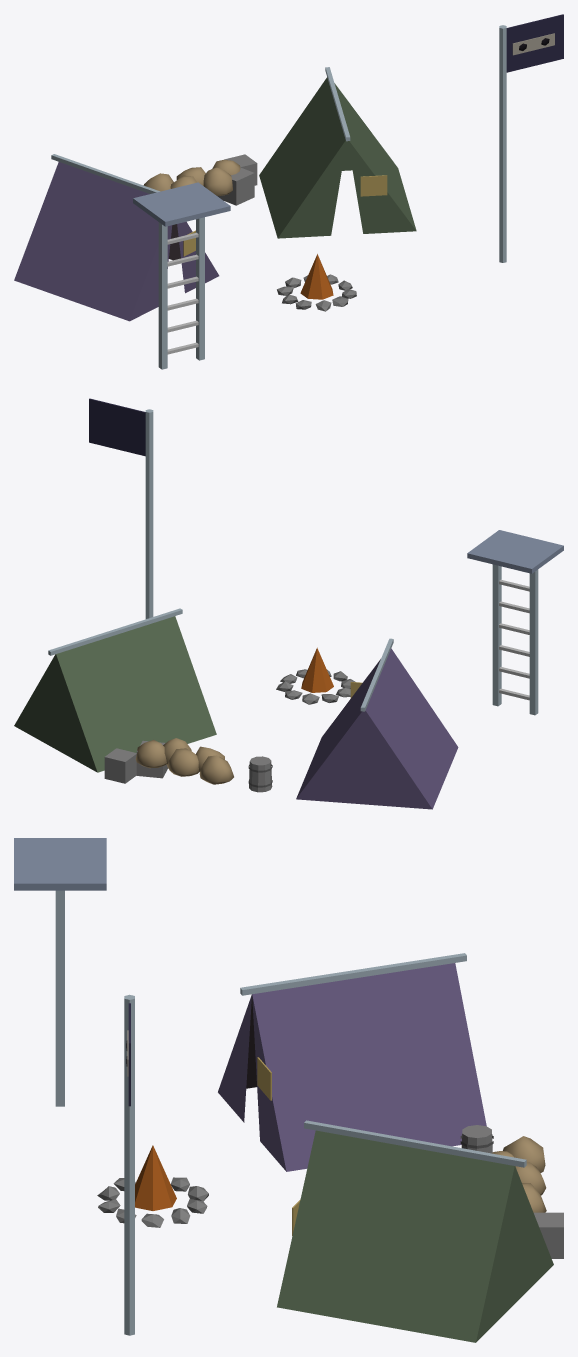
The model's file is robber_camp.glb.
The picture shows the model from 3 angles, top to bottom: view 1: azimuth 30°, elevation 25°; view 2: azimuth 150°, elevation 25°; view 3: azimuth 270°, elevation 25°; orthographic projection. The views are drawn at different scales.
Visible parts, largest first — view 1: robber_camp; view 2: robber_camp; view 3: robber_camp.
Boxes of the visible parts, left/top/right/bottom form: robber_camp: left=14, top=14, right=563, bottom=369; robber_camp: left=14, top=398, right=563, bottom=809; robber_camp: left=14, top=838, right=563, bottom=1342.
Size of the model in its own units: 9.6 by 4.8 by 7.12.
